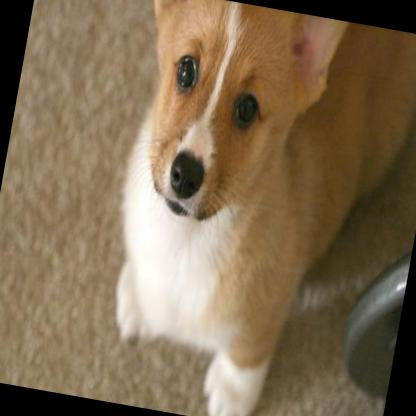Pembroke: (78, 0, 416, 416)
